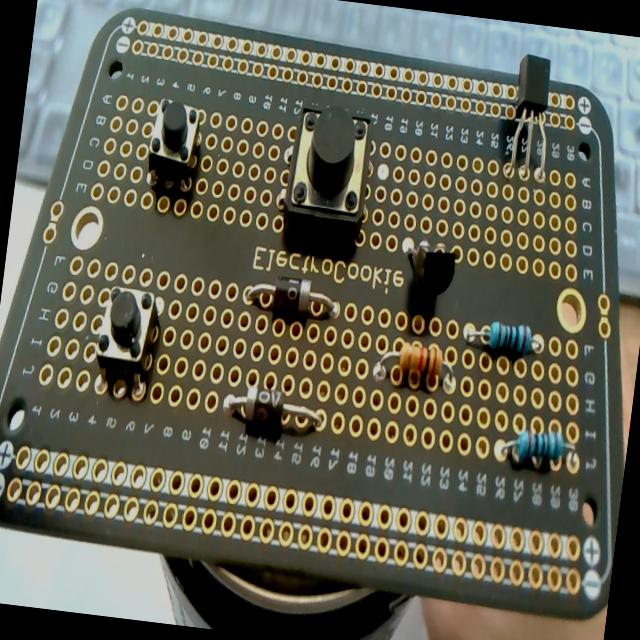diode: (210, 378, 336, 454), (235, 263, 352, 331)
resistor: (360, 332, 460, 408), (487, 421, 588, 485), (456, 309, 556, 368)
switch: (279, 88, 386, 246), (85, 265, 176, 397), (136, 86, 212, 197)
transistor: (497, 44, 558, 188), (389, 226, 470, 300)
